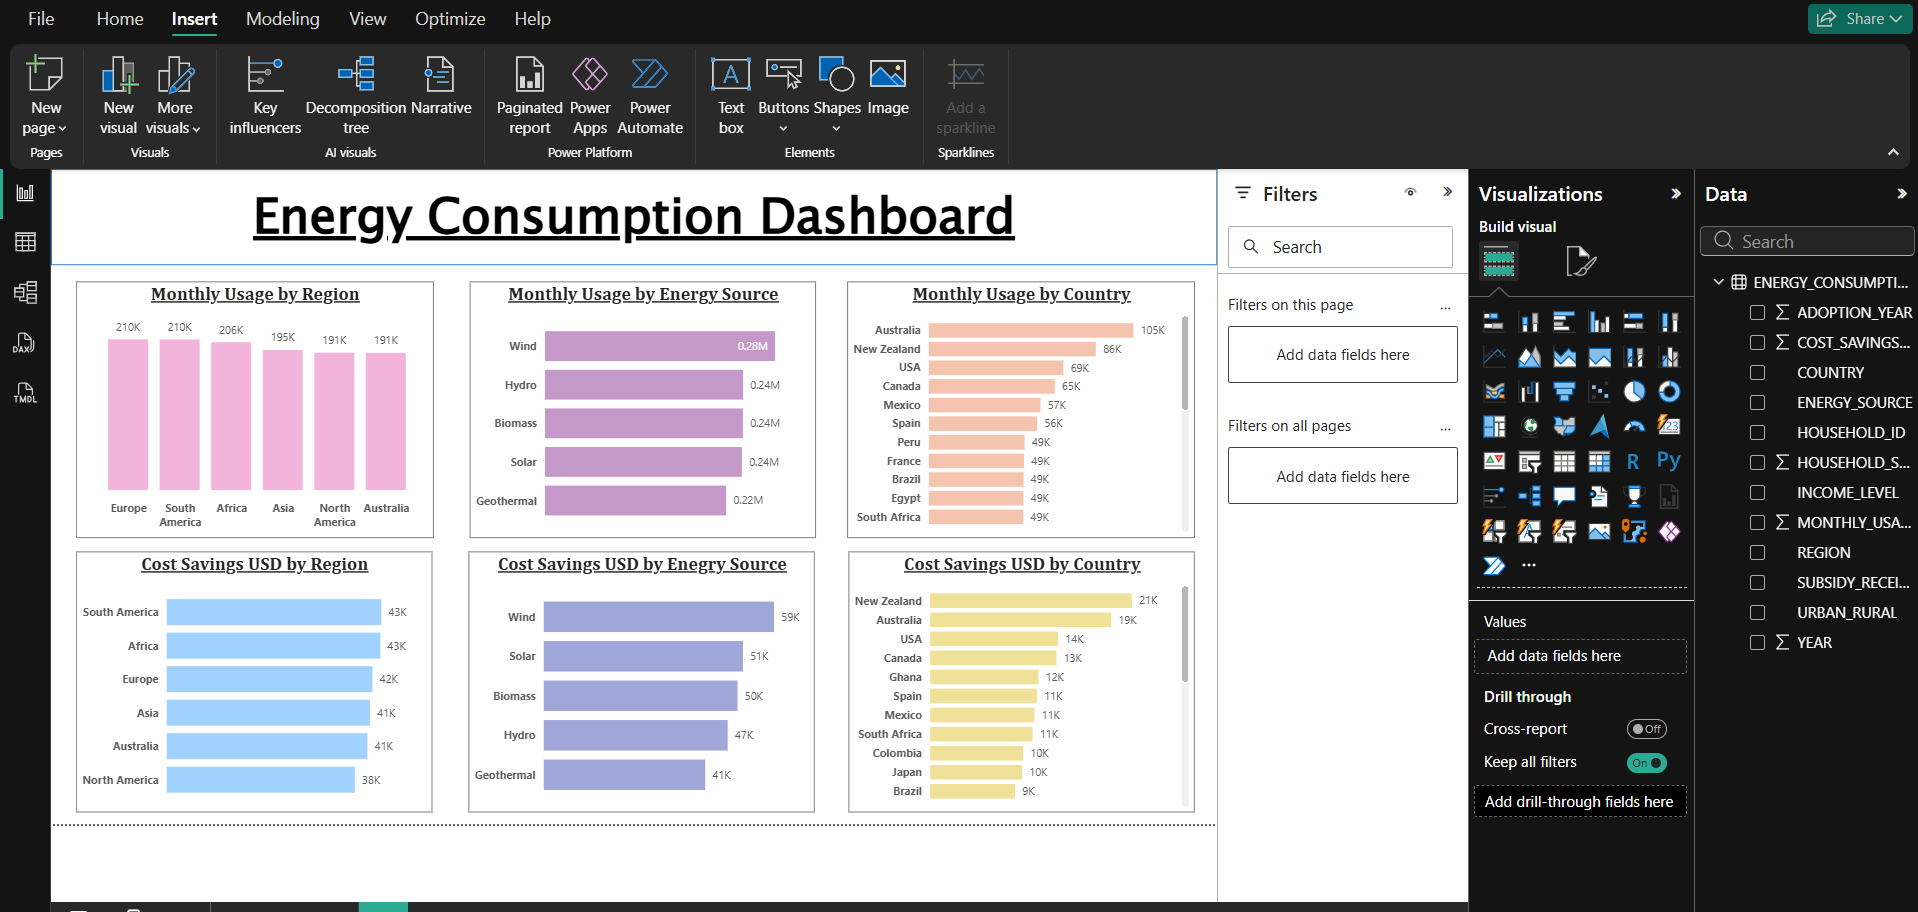

This screenshot's page, from the dashboard's own definition file:
{"tool":"powerbi","page":{"name":"Energy Consumption Dashboard","canvas":[1280,720],"ordinal":0},"visuals":[{"type":"columnChart","title":"Monthly Usage by Region","fields":{"Y":["Sum(ENERGY_CONSUMPTION.MONTHLY_USAGE_KWH)"],"Category":["ENERGY_CONSUMPTION.REGION"]},"box":[27.4,123.5,392.5,281.3],"z":0},{"type":"barChart","title":"Monthly Usage by Country","fields":{"Y":["Sum(ENERGY_CONSUMPTION.MONTHLY_USAGE_KWH)"],"Category":["ENERGY_CONSUMPTION.COUNTRY"]},"box":[874.1,123.5,381.5,281.3],"z":1},{"type":"barChart","title":"Monthly Usage by Energy Source","fields":{"Y":["Sum(ENERGY_CONSUMPTION.MONTHLY_USAGE_KWH)"],"Category":["ENERGY_CONSUMPTION.ENERGY_SOURCE"]},"box":[459.7,123.5,380.1,281.3],"z":2},{"type":"barChart","title":"Cost Savings USD by Region","fields":{"Y":["Sum(ENERGY_CONSUMPTION.COST_SAVINGS_USD)"],"Category":["ENERGY_CONSUMPTION.REGION"]},"box":[27.4,419.9,391.1,286.8],"z":3},{"type":"barChart","title":"Cost Savings USD by Country","fields":{"Y":["Sum(ENERGY_CONSUMPTION.COST_SAVINGS_USD)"],"Category":["ENERGY_CONSUMPTION.COUNTRY"]},"box":[875.5,419.9,380.1,286.8],"z":4},{"type":"barChart","title":"Cost Savings USD by Enegry Source","fields":{"Y":["Sum(ENERGY_CONSUMPTION.COST_SAVINGS_USD)"],"Category":["ENERGY_CONSUMPTION.ENERGY_SOURCE"]},"box":[458.3,419.9,380.1,286.8],"z":5},{"type":"shape","box":[0,0,1280.3,105.7],"z":6}]}

Visuals, with their boxes on the page's 1280x720 design canvas (x1, y1, x2, y2). These are canvas units, not pixel positions in the 1918x912 screenshot, which may show the page scaled, cropped or inside an application window:
"Monthly Usage by Region" columnChart: [27,124,420,405]
"Monthly Usage by Country" barChart: [874,124,1256,405]
"Monthly Usage by Energy Source" barChart: [460,124,840,405]
"Cost Savings USD by Region" barChart: [27,420,418,707]
"Cost Savings USD by Country" barChart: [876,420,1256,707]
"Cost Savings USD by Enegry Source" barChart: [458,420,838,707]
shape: [0,0,1280,106]
